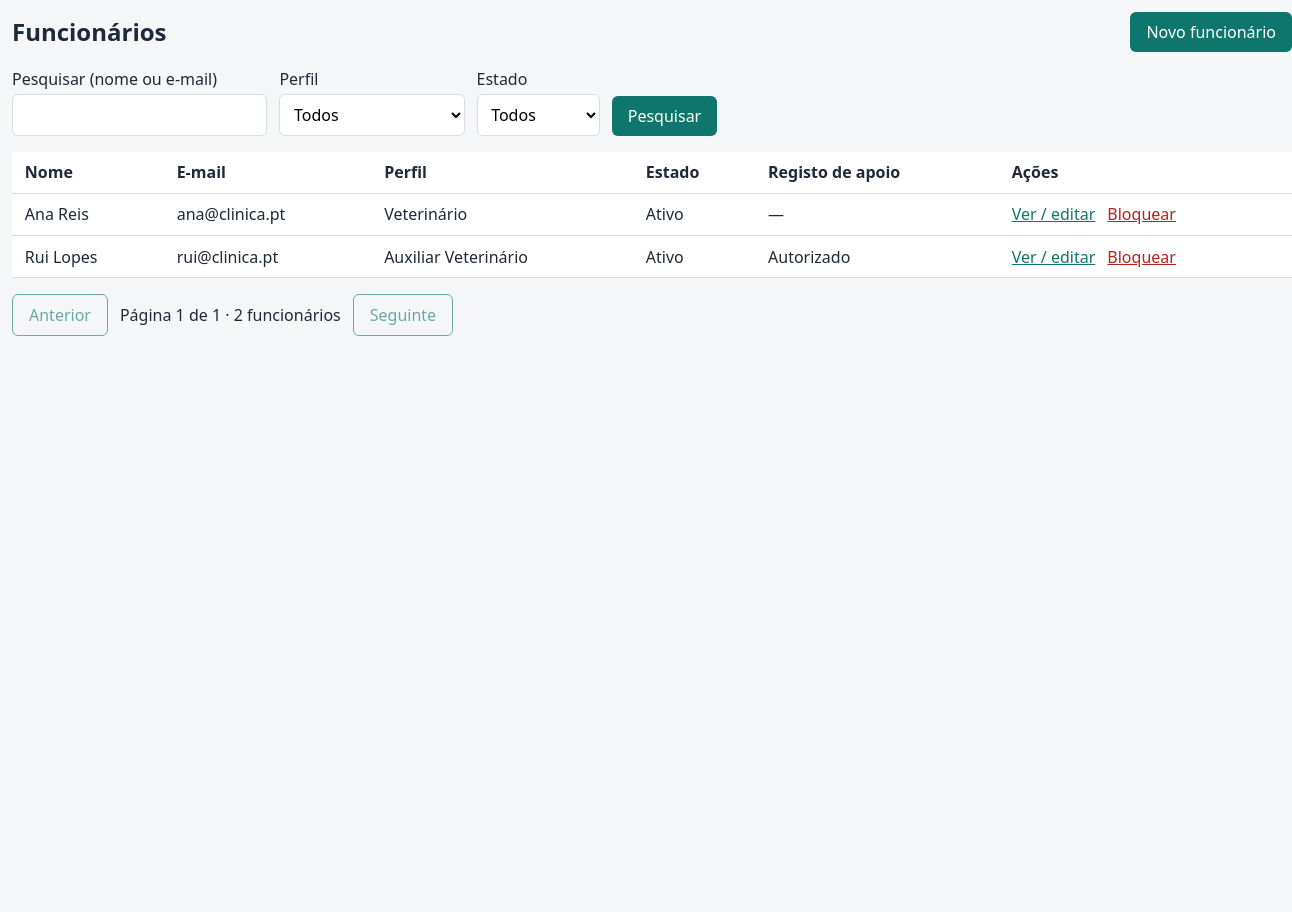
Test case: W02 — lista de funcionários › mostra o erro do bloqueio (422) sem fechar a confirmação
This screenshot has width=1292, height=912.
Click the button "Bloquear" in the row of "Ana Reis" at [1142, 214], box [1107,203,1176,225]
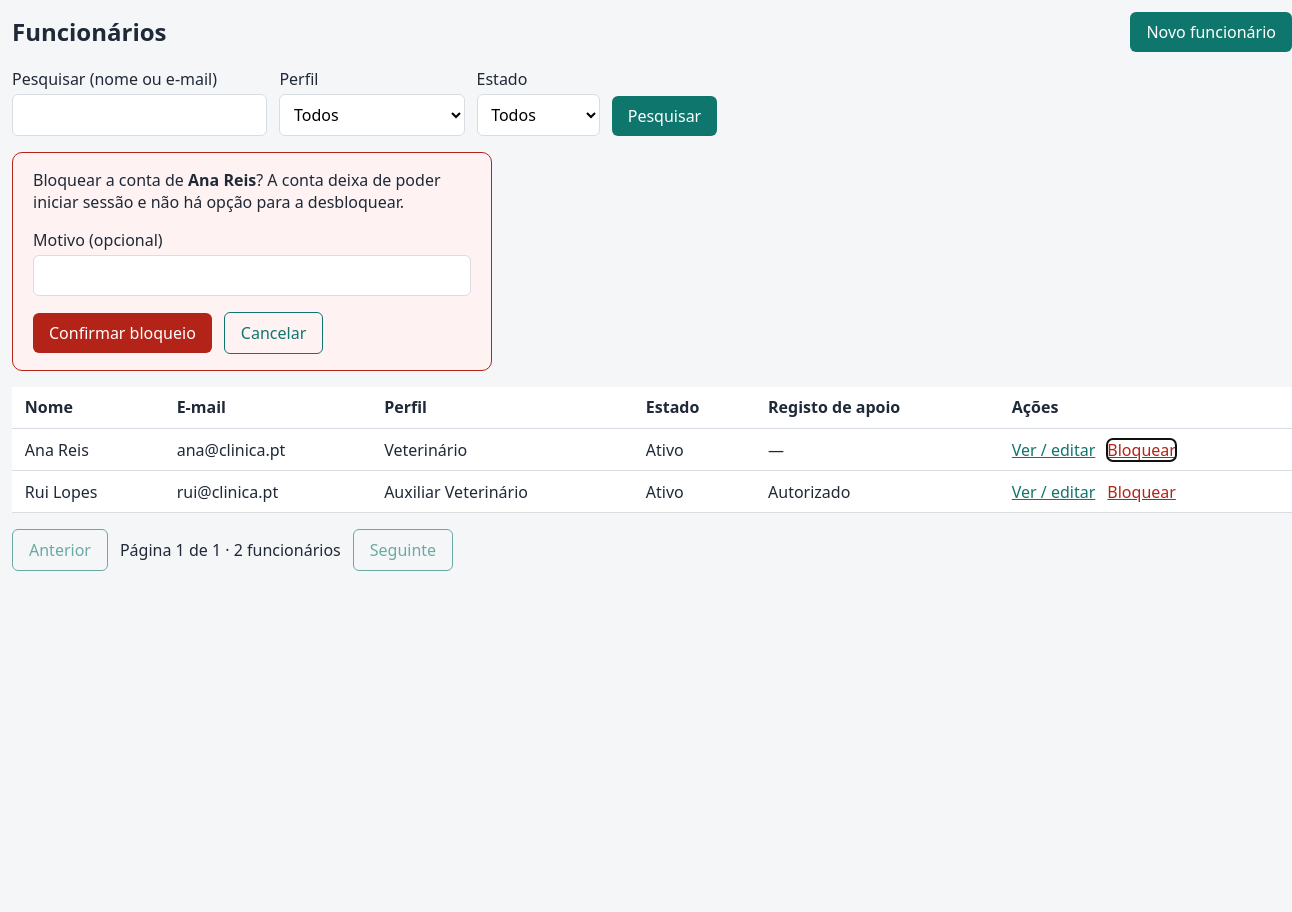
Click the button "Confirmar bloqueio" at [122, 333], box [33,313,212,353]
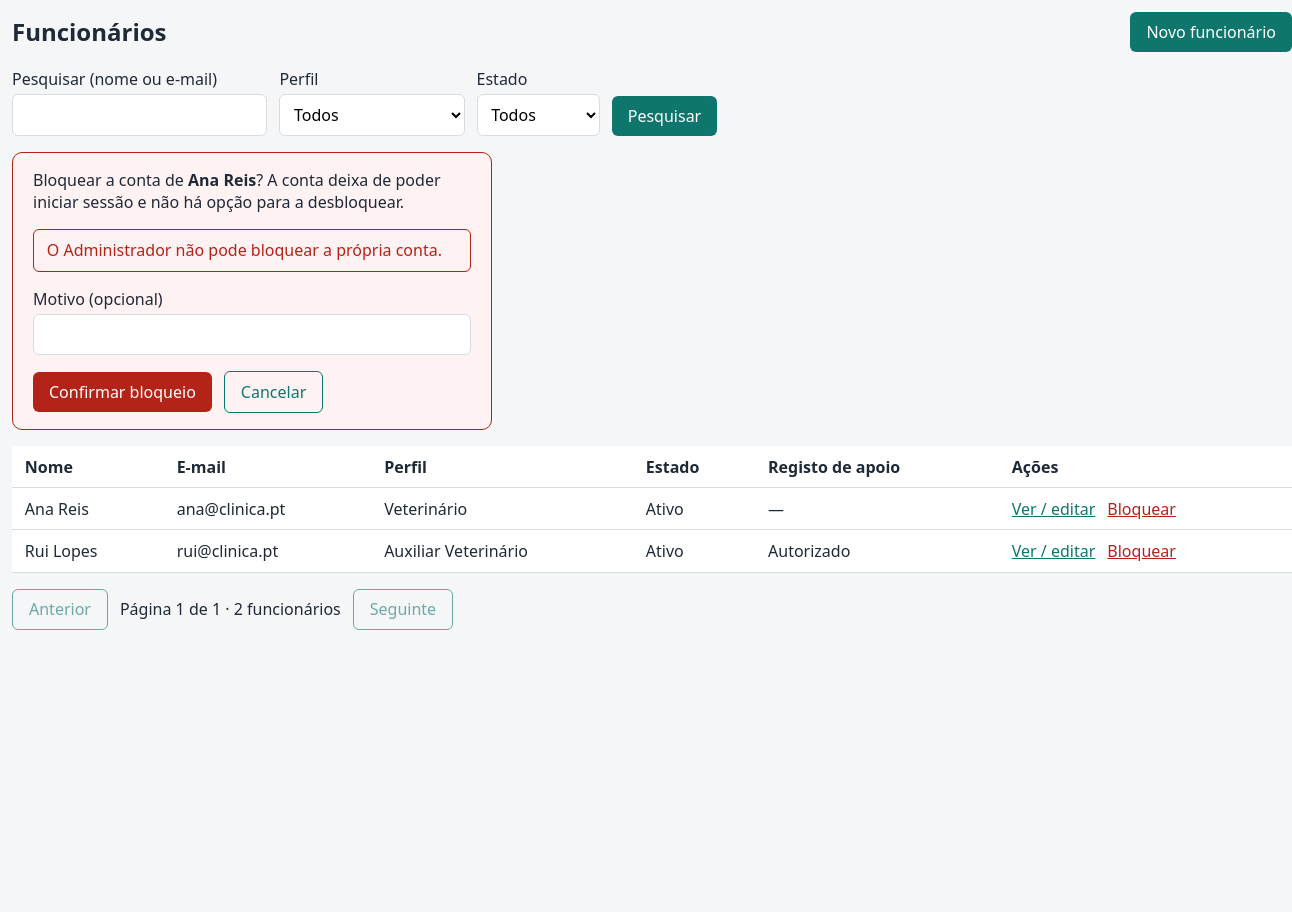
Check: the button "Confirmar bloqueio" is enabled, box [33,372,212,412]
Check: the message shows "própria conta", box [47,239,442,261]
